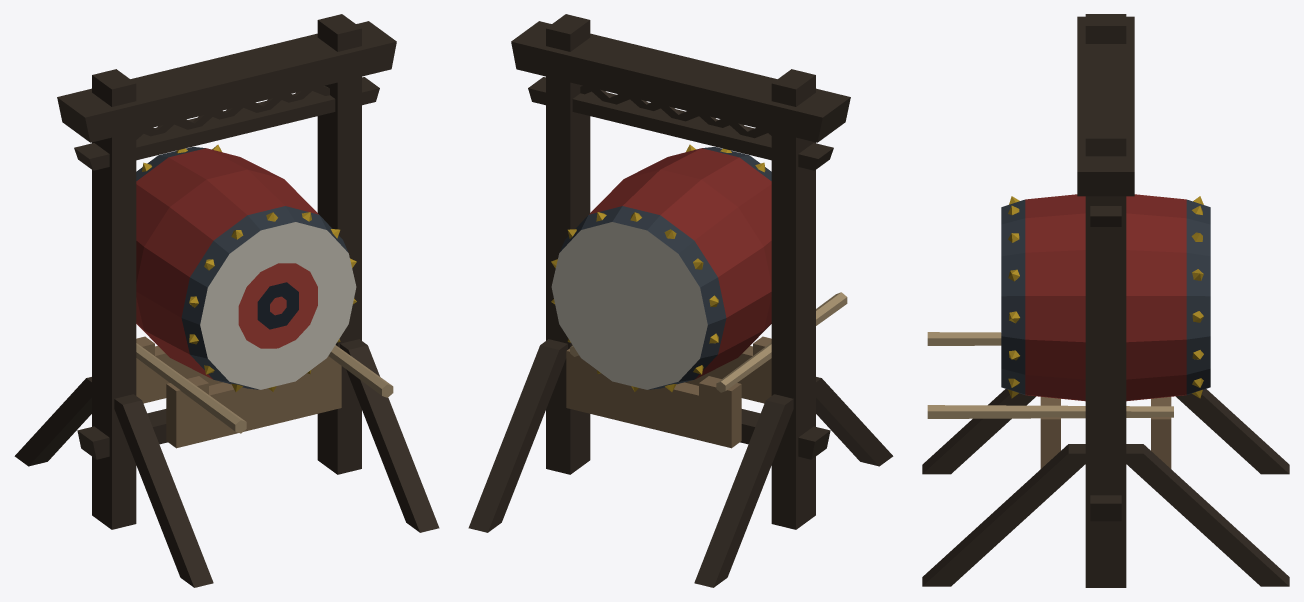
Rendered from war-drum-on-stand-cbb91a.glb.
3 renders of one model, left to right at view 1: azimuth 30°, elevation 25°; view 2: azimuth 150°, elevation 25°; view 3: azimuth 270°, elevation 25°, orthographic. The views are drawn at different scales.
Visible parts, largest first — view 1: drum-and-stand, bachi-pair; view 2: drum-and-stand, bachi-pair; view 3: drum-and-stand, bachi-pair.
Part boxes in pixels (<box>): drum-and-stand: <box>14,14,439,587</box>; bachi-pair: <box>136,343,393,433</box>; drum-and-stand: <box>468,14,893,587</box>; bachi-pair: <box>570,292,847,392</box>; drum-and-stand: <box>922,14,1289,587</box>; bachi-pair: <box>927,332,1173,418</box>.
Bounding box in the file's own units: 1 × 1.35 × 1.
